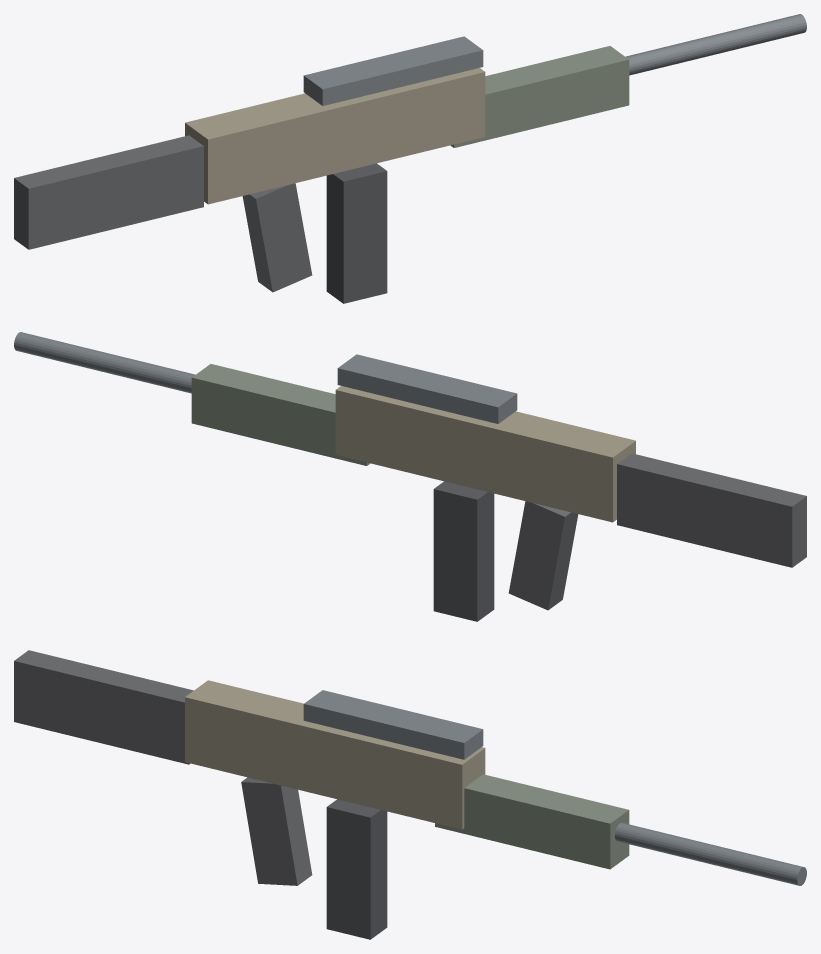
Rendered from metaverse-battle-rifle.gltf.
3 views of the same model, one above another, from view 1: azimuth 30°, elevation 25°; view 2: azimuth 150°, elevation 25°; view 3: azimuth 330°, elevation 25° (orthographic).
Visible parts, largest first — view 1: metaverse_battle_rifle_receiver, metaverse_battle_rifle_stock, metaverse_battle_rifle_handguard, metaverse_battle_rifle_magazine, metaverse_battle_rifle_top_rail, metaverse_battle_rifle_grip, metaverse_battle_rifle_barrel; view 2: metaverse_battle_rifle_receiver, metaverse_battle_rifle_stock, metaverse_battle_rifle_handguard, metaverse_battle_rifle_magazine, metaverse_battle_rifle_top_rail, metaverse_battle_rifle_grip, metaverse_battle_rifle_barrel; view 3: metaverse_battle_rifle_receiver, metaverse_battle_rifle_stock, metaverse_battle_rifle_handguard, metaverse_battle_rifle_magazine, metaverse_battle_rifle_top_rail, metaverse_battle_rifle_grip, metaverse_battle_rifle_barrel.
Boxes of the visible parts, x1,y1,x2,y2 form: metaverse_battle_rifle_receiver: [185, 68, 485, 204]; metaverse_battle_rifle_stock: [14, 135, 203, 249]; metaverse_battle_rifle_handguard: [450, 46, 629, 147]; metaverse_battle_rifle_magazine: [326, 163, 387, 303]; metaverse_battle_rifle_top_rail: [303, 36, 483, 105]; metaverse_battle_rifle_grip: [242, 183, 312, 292]; metaverse_battle_rifle_barrel: [625, 14, 806, 75]; metaverse_battle_rifle_receiver: [335, 386, 635, 522]; metaverse_battle_rifle_stock: [617, 453, 806, 567]; metaverse_battle_rifle_handguard: [191, 364, 370, 465]; metaverse_battle_rifle_magazine: [433, 481, 494, 621]; metaverse_battle_rifle_top_rail: [337, 354, 517, 423]; metaverse_battle_rifle_grip: [508, 501, 578, 610]; metaverse_battle_rifle_barrel: [14, 332, 195, 393]; metaverse_battle_rifle_receiver: [185, 680, 485, 829]; metaverse_battle_rifle_stock: [14, 650, 193, 764]; metaverse_battle_rifle_handguard: [435, 774, 629, 869]; metaverse_battle_rifle_magazine: [326, 799, 387, 939]; metaverse_battle_rifle_top_rail: [303, 690, 483, 759]; metaverse_battle_rifle_grip: [241, 777, 312, 885]; metaverse_battle_rifle_barrel: [615, 822, 806, 885].
Size of the model in its own units: 1.07 by 0.289 by 0.055.
